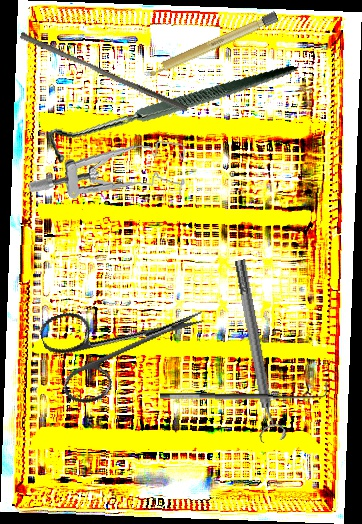Fixation Ring: (226, 257, 288, 444)
Hook Surgical: (44, 23, 299, 203), (159, 379, 329, 404)
Iris Scissors: (36, 270, 218, 411)
Pusher: (17, 31, 191, 113)
Scalpel Handle: (142, 10, 279, 81)
Speculum: (27, 128, 190, 210)
